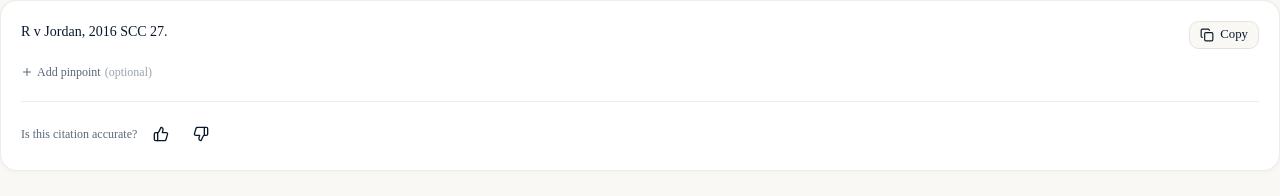
it: CitationCard — pinpoint add / edit / remove › opens pinpoint text input on clicking Add pinpoint
The image size is (1280, 196).
Click the button "Add pinpoint (optional)" at (86, 72), box top-left (21, 64), bottom-right (152, 80)
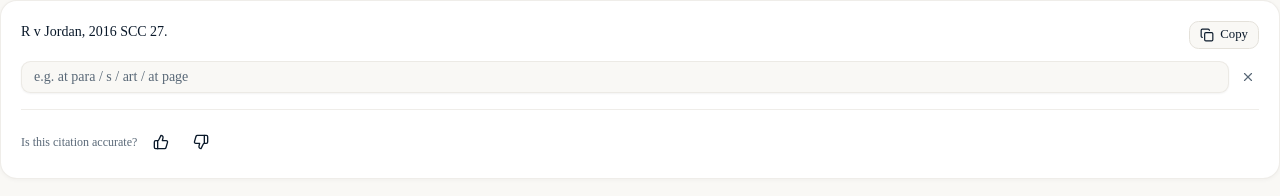
Expected: the field named "pinpoint reference" is shown, top-left (21, 61), bottom-right (1229, 93)
